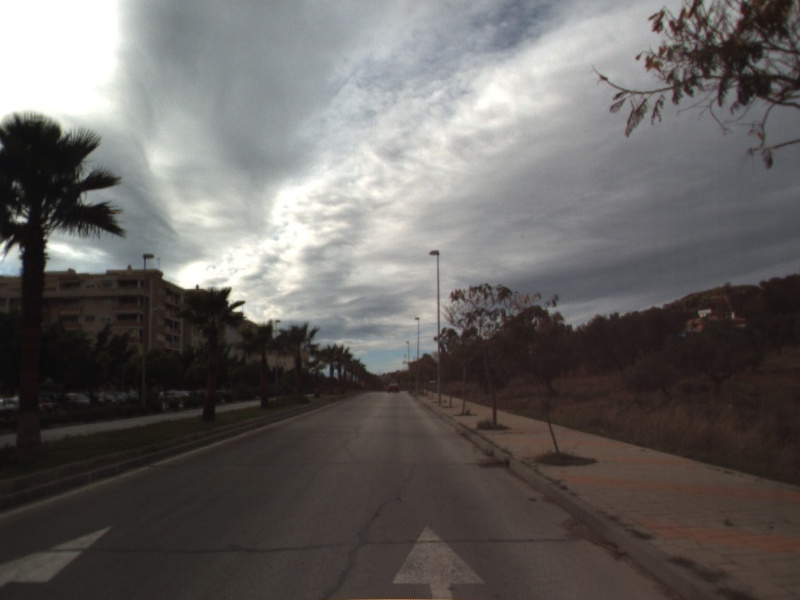STRAIGHT: (1, 521, 118, 588), (390, 523, 490, 600)
